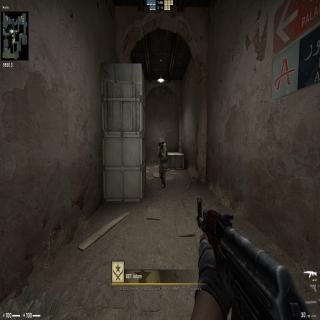CT-Head: (159, 138, 164, 148)
